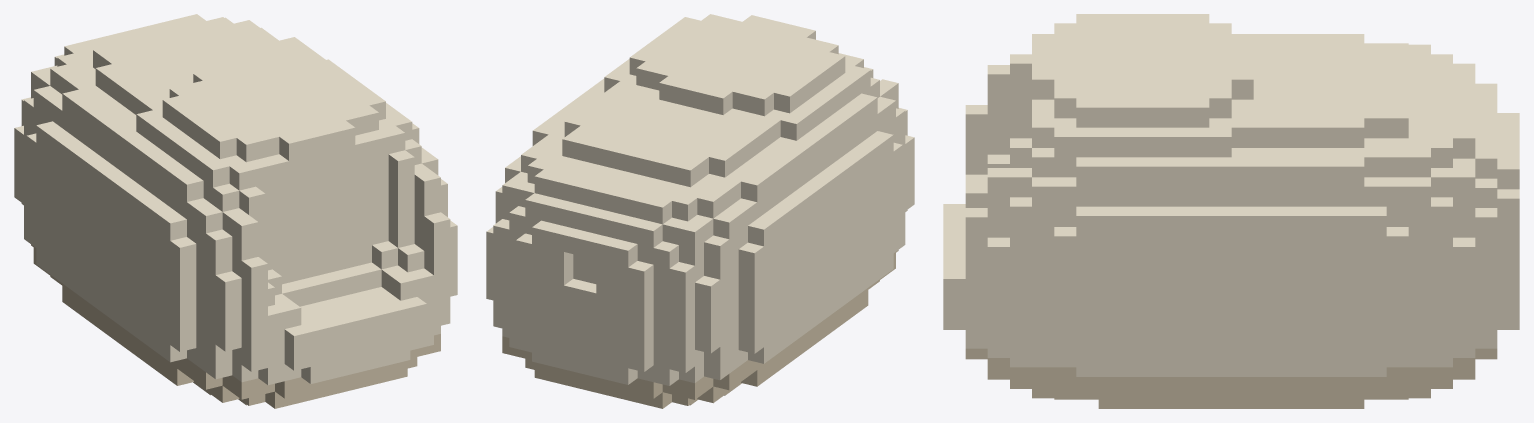
The model's file is polar_bear__body.glb.
The picture shows the model from 3 angles, left to right: view 1: azimuth 30°, elevation 25°; view 2: azimuth 150°, elevation 25°; view 3: azimuth 270°, elevation 25°; orthographic projection. The views are drawn at different scales.
Visible parts, largest first — view 1: polar_bear__body; view 2: polar_bear__body; view 3: polar_bear__body.
Boxes of the visible parts, x1,y1,x2,y2 form: polar_bear__body: (14, 14, 457, 408); polar_bear__body: (486, 14, 914, 408); polar_bear__body: (943, 14, 1519, 408).
Bounding box in the file's own units: 1.6 × 1.5 × 2.6.
Materials: 1 (1 with a texture image).
